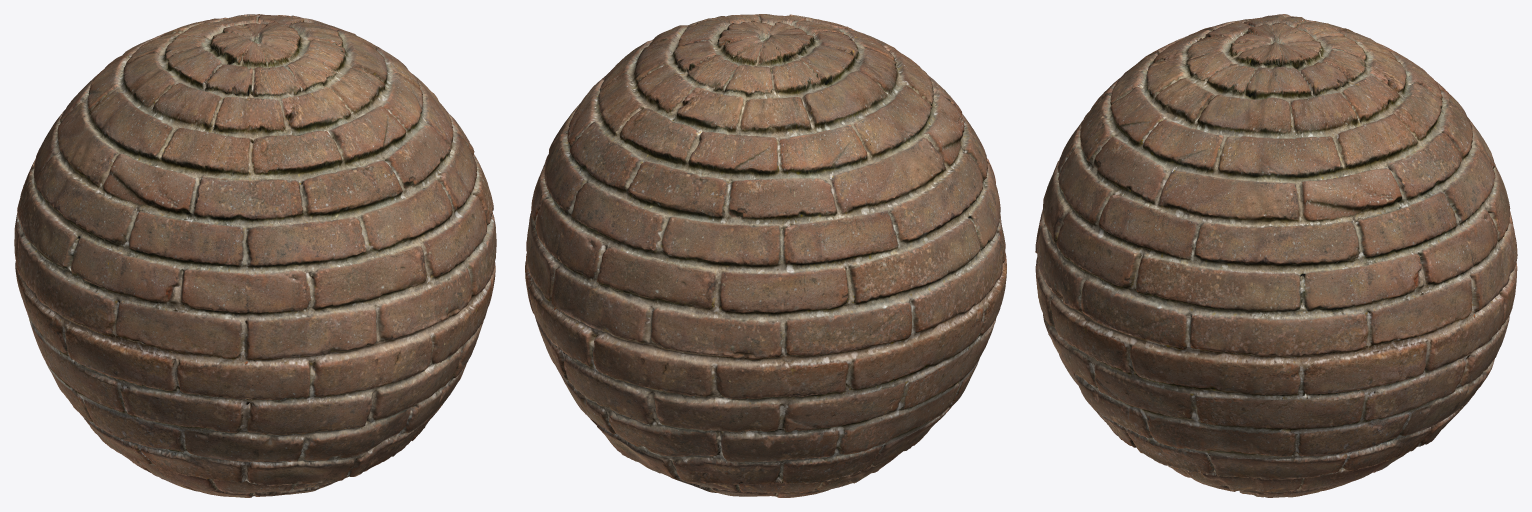
The model's file is factory_brick_4k.gltf.
3 renders of one model, left to right at view 1: azimuth 30°, elevation 25°; view 2: azimuth 150°, elevation 25°; view 3: azimuth 270°, elevation 25°, orthographic. The views are drawn at different scales.
Parts seen in each view (by area): view 1: sphere_gltf; view 2: sphere_gltf; view 3: sphere_gltf.
Part boxes in pixels (x1,y1,x2,y2): sphere_gltf: (14,14,496,497); sphere_gltf: (525,14,1006,497); sphere_gltf: (1035,14,1517,497).
Size of the model in its own units: 1.51 by 1.54 by 1.53.
Materials: 1 (1 with a texture image).
